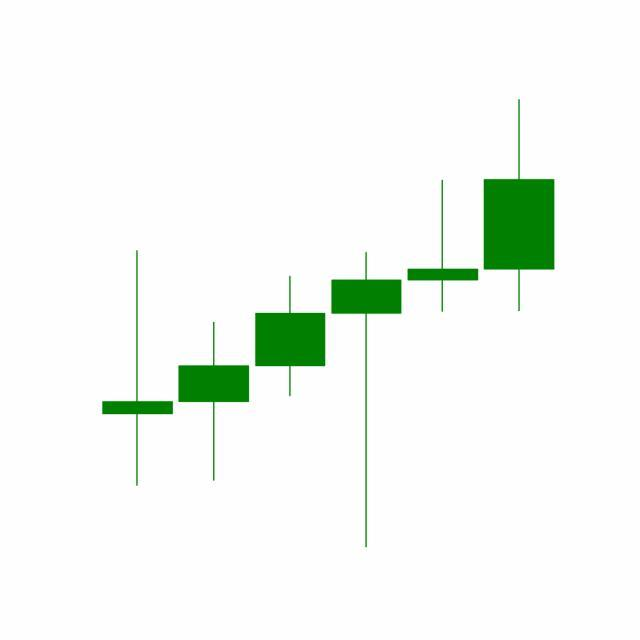Spinning Top: (404, 179, 482, 315)
